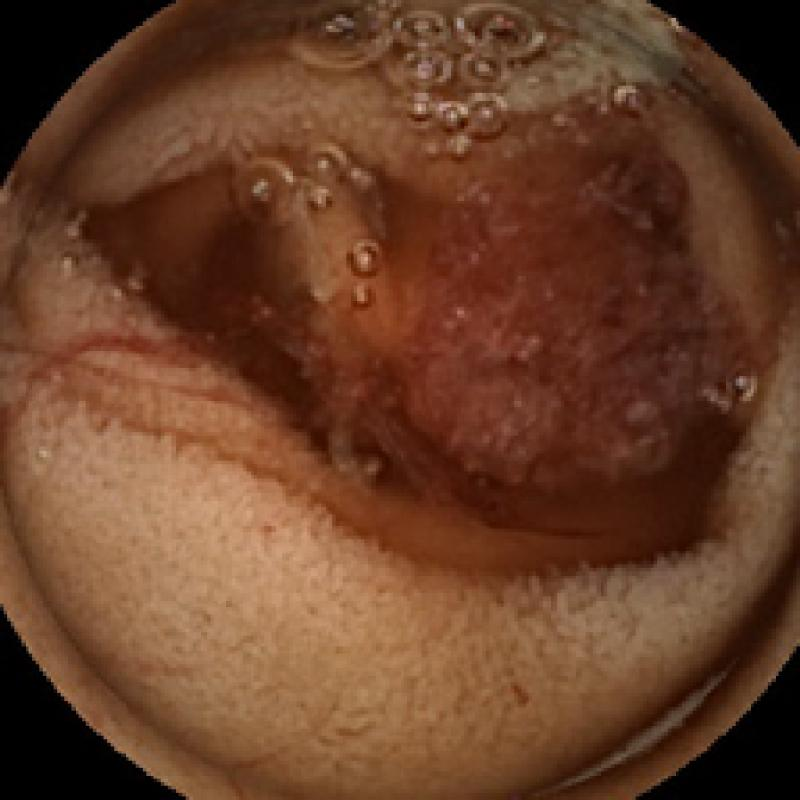bleeding: (275, 96, 725, 536), (4, 326, 242, 413)
